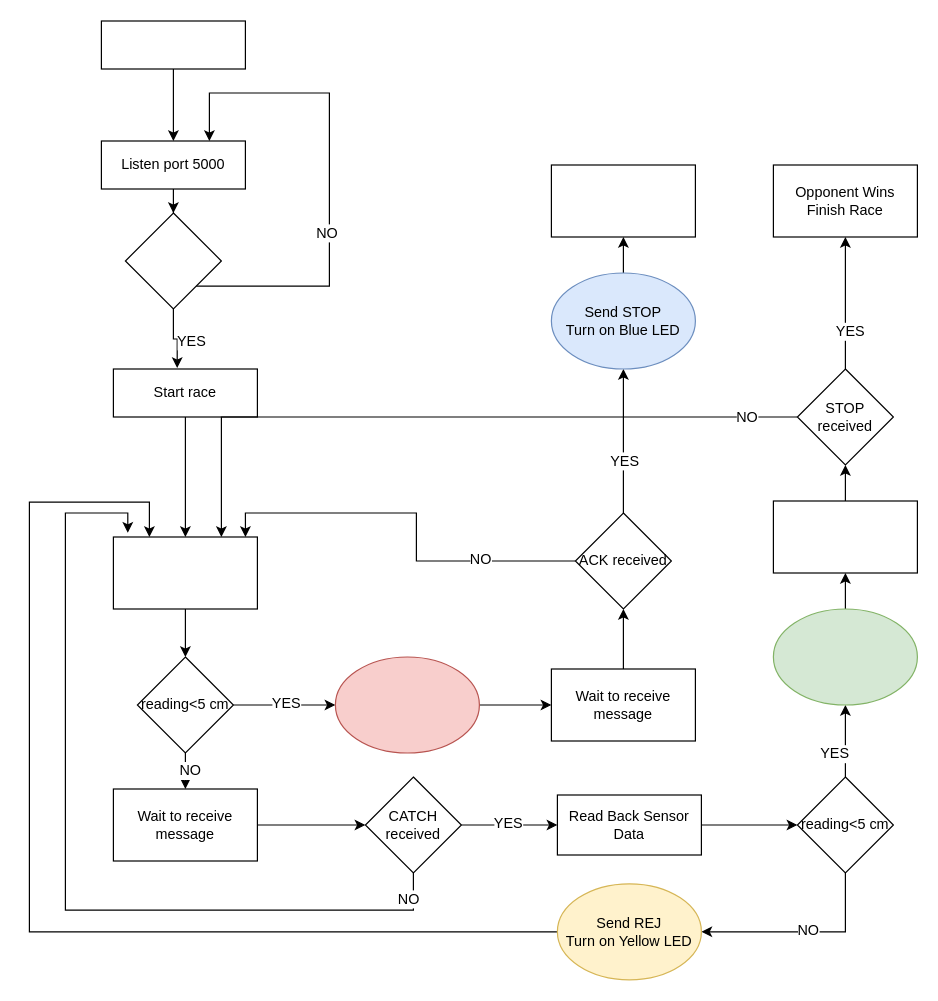
This 938x1001 diagram has some shape labels left out. The shapes that lost their labels are listed below. From the top down, each one's centre as x and y in pixels, then its label:
[172,44]: Initiate Server
[622,200]: Duayenler Wins Finish Race
[172,260]: client connected
[844,536]: Wait to receive STOP message
[184,572]: Read Front Sensor Data
[844,656]: Send ACK Turn on Green LED
[406,704]: Send CATCH Turn on Red LED
